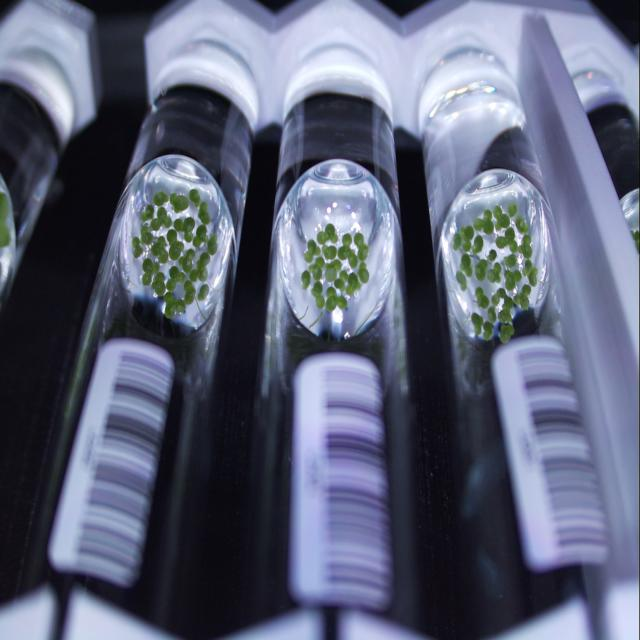Lemna-Gibba: (338, 233, 358, 269), (190, 252, 210, 282), (496, 227, 518, 254), (164, 292, 185, 319), (325, 287, 348, 311), (474, 208, 494, 235), (174, 217, 195, 242), (166, 265, 185, 292), (168, 228, 184, 260), (150, 207, 172, 230), (316, 223, 339, 245), (151, 237, 169, 264), (354, 232, 369, 262), (492, 205, 510, 230), (142, 259, 159, 285), (521, 260, 538, 285), (492, 289, 512, 310), (179, 248, 195, 274), (304, 238, 320, 264), (460, 225, 475, 252), (325, 259, 342, 282), (311, 282, 325, 309), (514, 285, 529, 310), (345, 272, 361, 295), (309, 257, 325, 280), (170, 193, 189, 212), (151, 272, 165, 297), (505, 270, 521, 290), (194, 223, 208, 245), (475, 287, 489, 309), (334, 270, 349, 290), (500, 322, 515, 342), (471, 312, 484, 335), (460, 254, 472, 277), (475, 259, 488, 280), (519, 238, 532, 259), (471, 235, 484, 255), (488, 262, 501, 282), (154, 190, 169, 207), (199, 202, 210, 225), (184, 282, 195, 305), (515, 215, 529, 233), (131, 237, 142, 259), (358, 262, 369, 284), (189, 188, 201, 207), (499, 305, 511, 324), (141, 205, 154, 222), (208, 233, 218, 255), (141, 225, 152, 245), (324, 245, 338, 260), (456, 270, 466, 290), (301, 269, 311, 288), (504, 254, 518, 267), (484, 322, 494, 340), (198, 284, 209, 300), (452, 233, 461, 250), (508, 203, 518, 217), (488, 307, 496, 324), (488, 248, 496, 262)
